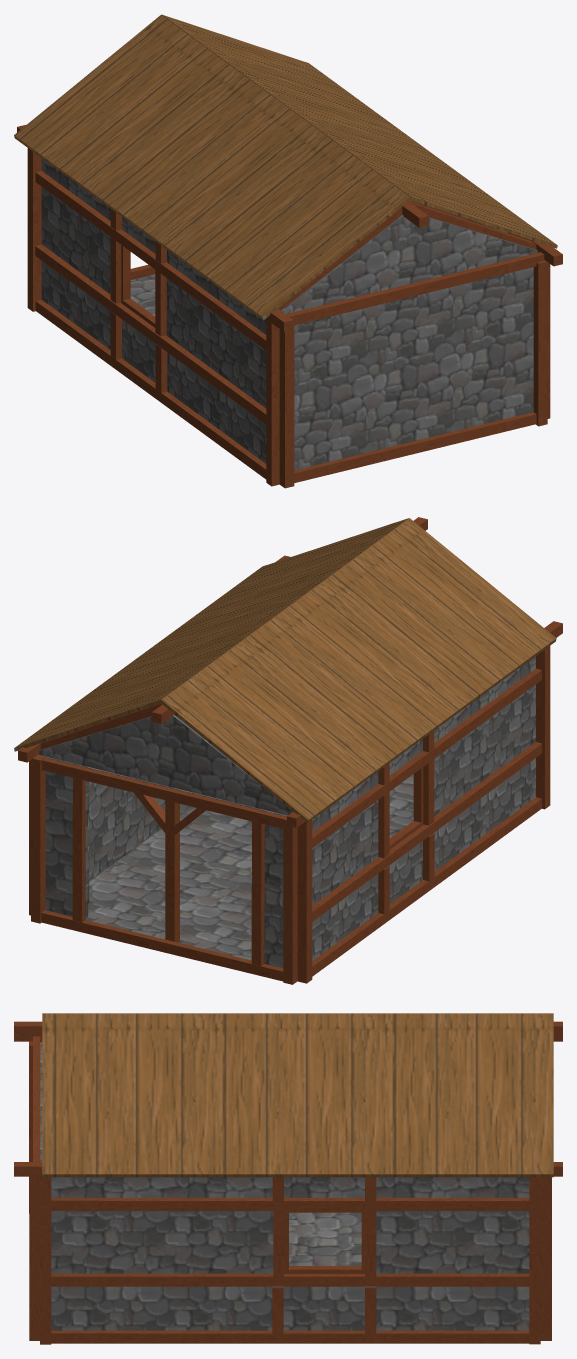
Rendered from ARC0710040.fbx.
3 renders of one model, top to bottom at view 1: azimuth 30°, elevation 25°; view 2: azimuth 150°, elevation 25°; view 3: azimuth 270°, elevation 25°, orthographic. The views are drawn at different scales.
Parts seen in each view (by area): view 1: smARC0710040; view 2: smARC0710040; view 3: smARC0710040.
Boxes of the visible parts, x1,y1,x2,y2 form: smARC0710040: (14, 14, 562, 488); smARC0710040: (14, 517, 562, 984); smARC0710040: (14, 1013, 562, 1344).
Size of the model in its own units: 473 by 390 by 742.
1 material, 1 textured.
